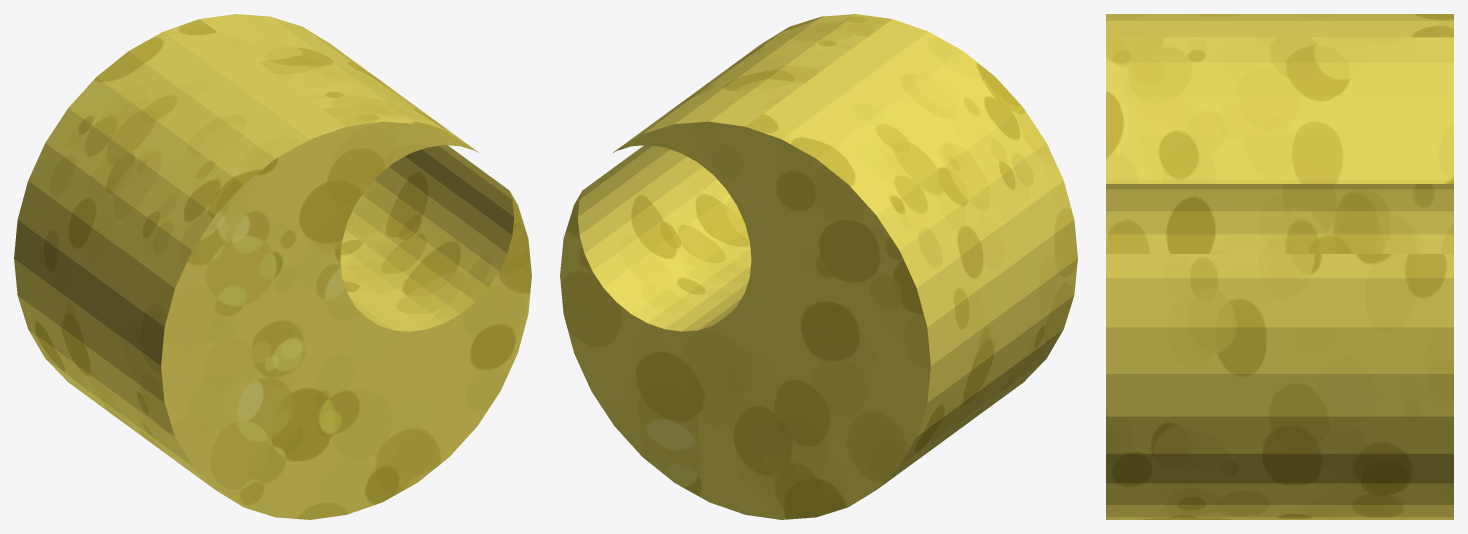
File: moon.obj
The picture shows the model from 3 angles, left to right: view 1: azimuth 30°, elevation 25°; view 2: azimuth 150°, elevation 25°; view 3: azimuth 270°, elevation 25°; orthographic projection. The views are drawn at different scales.
Visible parts, largest first — view 1: 円柱; view 2: 円柱; view 3: 円柱.
Boxes of the visible parts, x1,y1,x2,y2 form: 円柱: (14,14,531,519); 円柱: (560,14,1077,519); 円柱: (1106,14,1453,519).
Size of the model in its own units: 2 by 2 by 1.37.
1 material, 1 textured.
